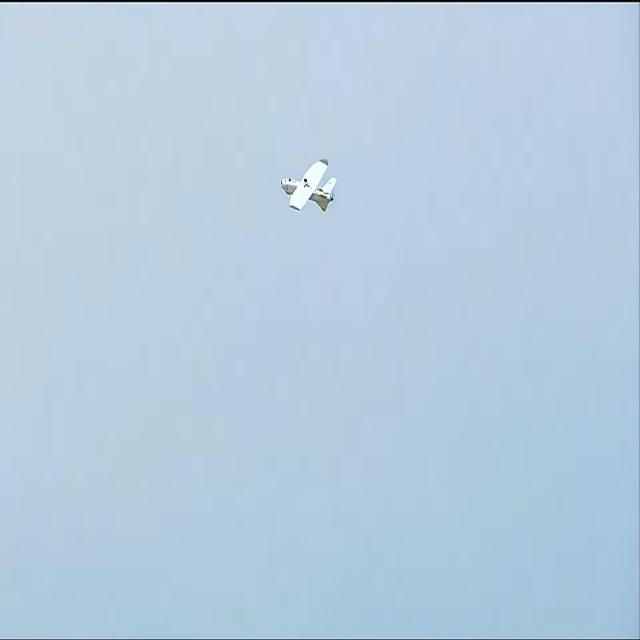iha: (280, 157, 338, 215)
